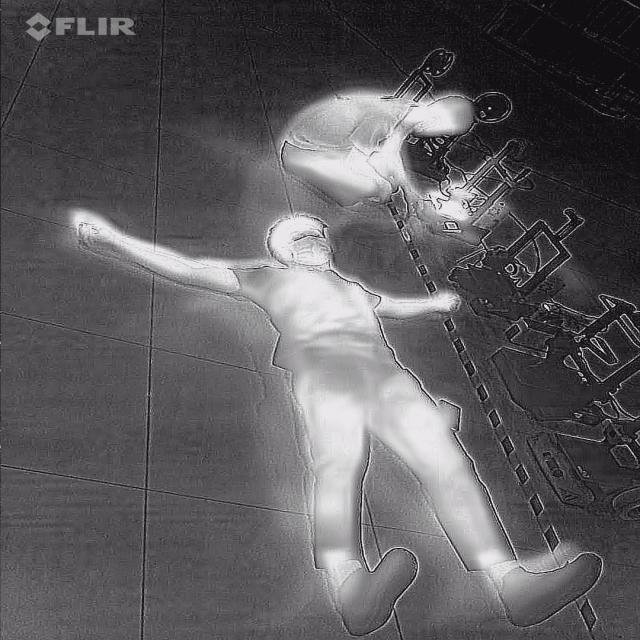Victim: (70, 204, 604, 638), (274, 86, 480, 220)
